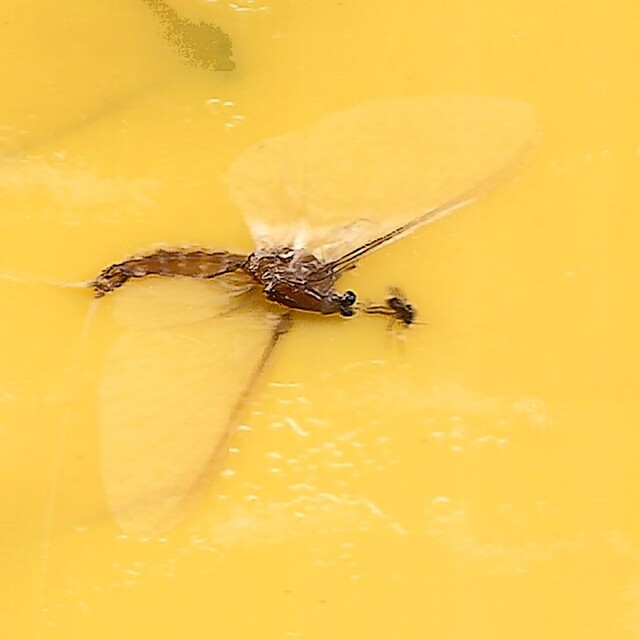Brachycera: (367, 284, 421, 330)
Ephemeroptera: (91, 82, 549, 558)
